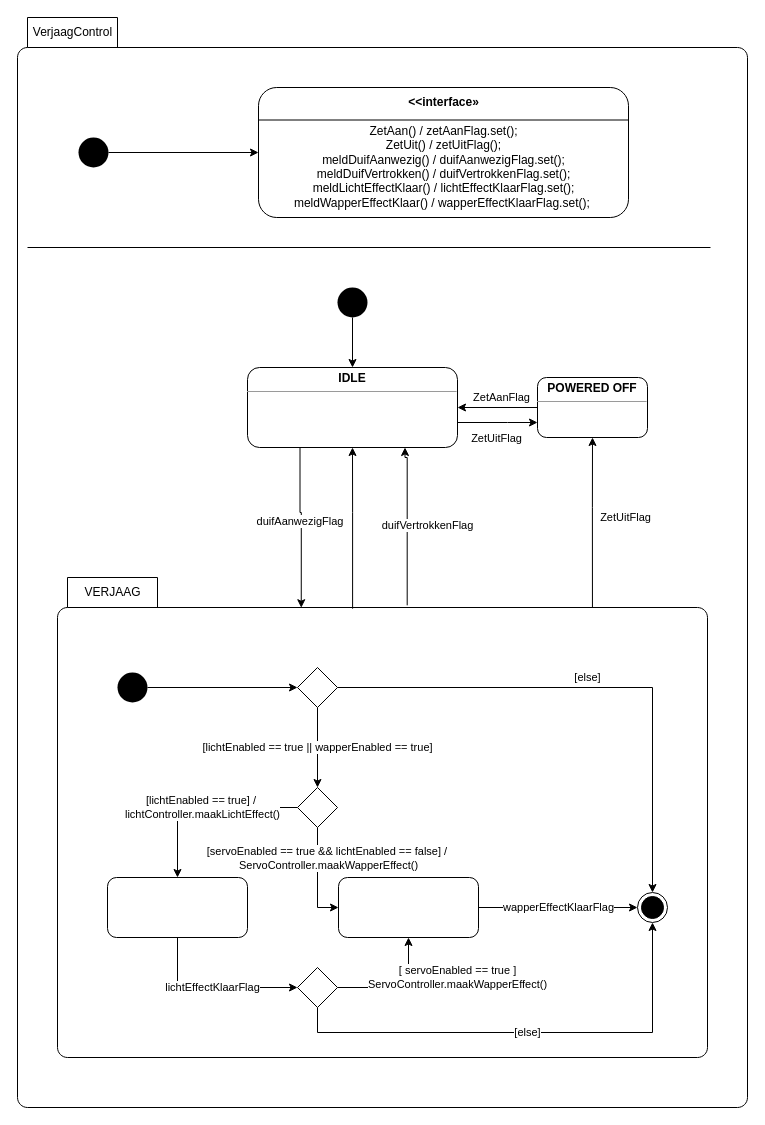
Image size: 765x1125. Some labels were removed from this diagram. The centre of each missing label's shape, as x and y in pixels:
VERJAAGMETLICHT: the point at 177,907
VERJAAGMETSERVO: the point at 408,907
